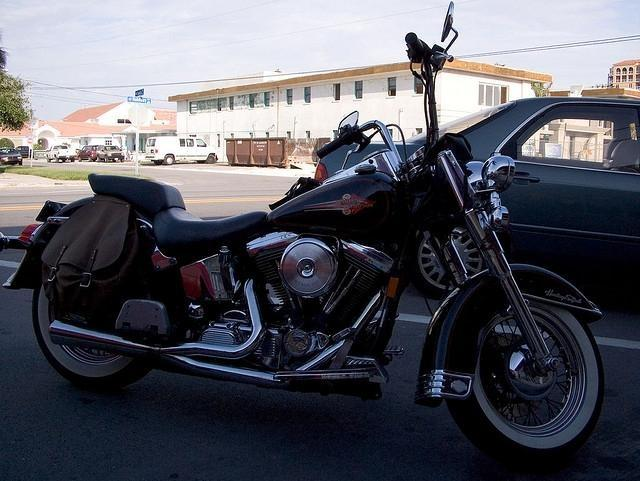car: (315, 94, 640, 300), (78, 144, 98, 164), (0, 147, 22, 165)
motorcycle: (0, 2, 613, 466)
truck: (144, 136, 222, 164), (95, 144, 128, 163), (46, 144, 77, 162), (16, 146, 28, 158)
